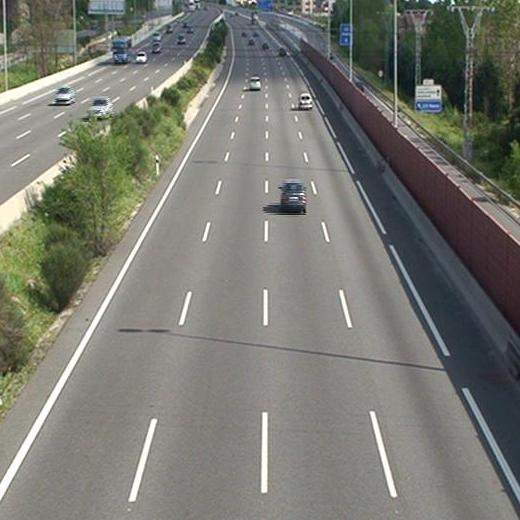car: (278, 181, 307, 213), (297, 92, 313, 111), (249, 76, 261, 91), (278, 45, 287, 56)
